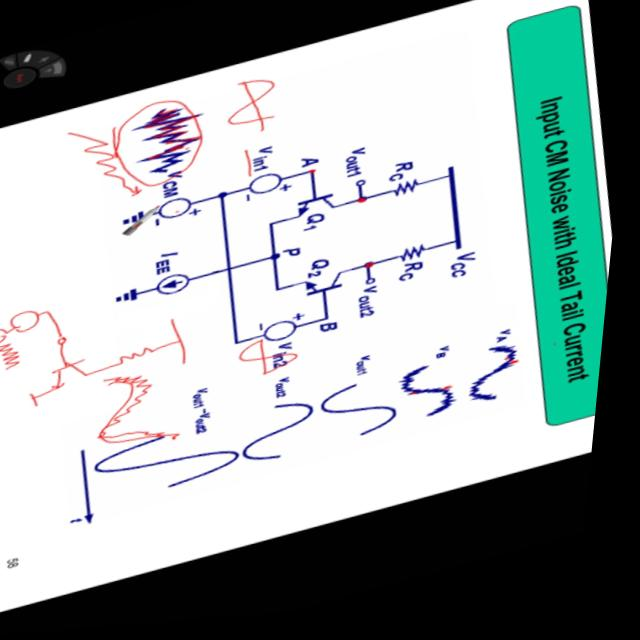panseo: (0, 249, 236, 509), (52, 68, 311, 223)
